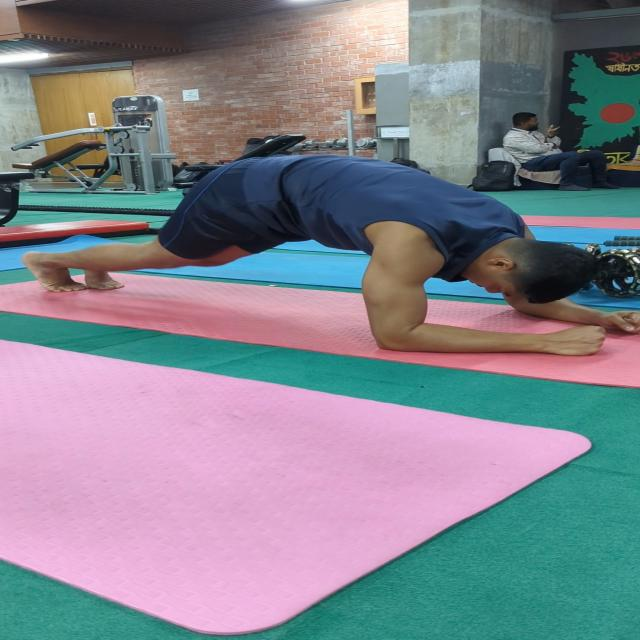Normal_MountainClimbers: (10, 129, 640, 375)
